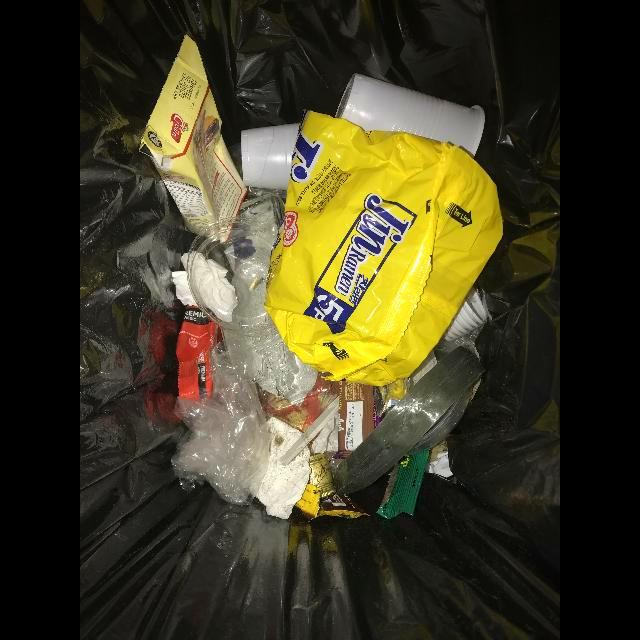food_wrapper: (264, 111, 503, 388), (176, 306, 223, 399), (333, 381, 386, 459), (296, 484, 370, 520)
paper: (256, 417, 312, 520)
plastic_bag: (171, 326, 298, 507)
plastic_container: (335, 75, 487, 158), (241, 123, 301, 191)
